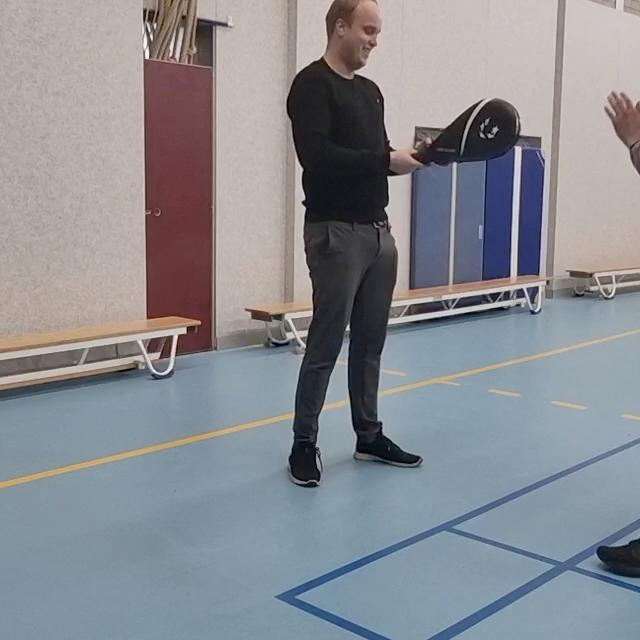paddle: (411, 95, 532, 170)
